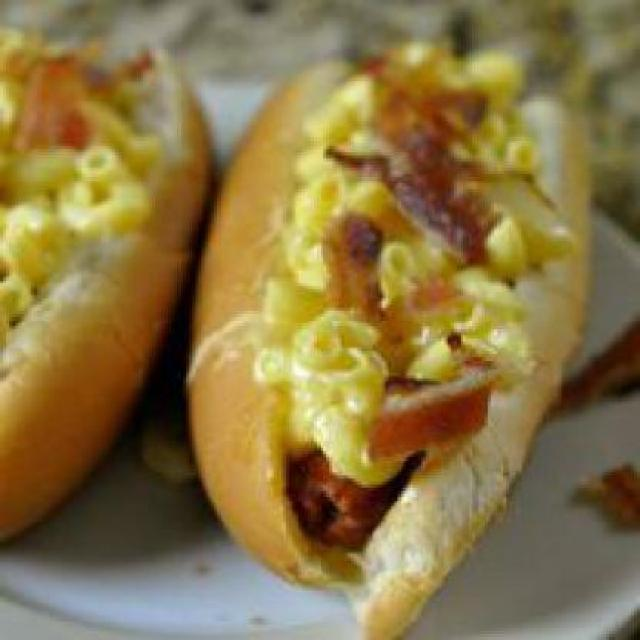hot dog: (277, 348, 485, 554)
macaroni and cheese: (268, 34, 546, 463)
